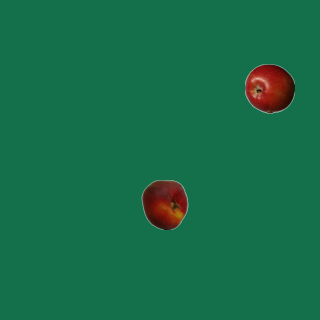Apple Braeburn: (244, 63, 294, 113)
Nectarine Flat: (139, 179, 189, 229)
